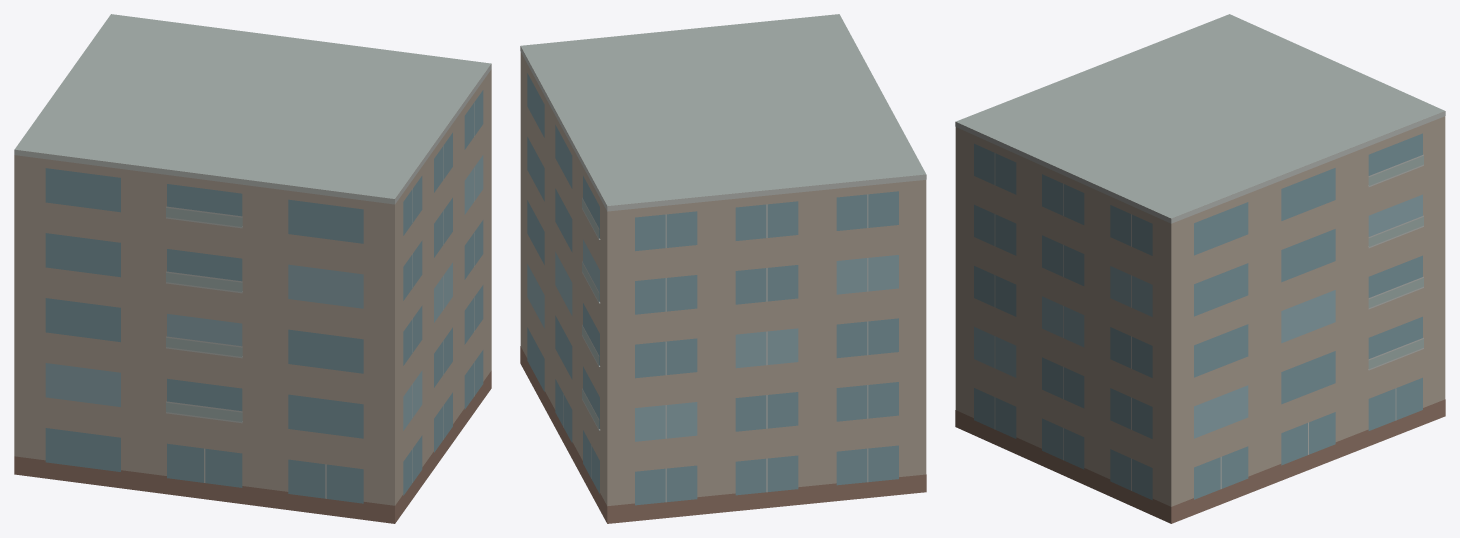
The model's file is survey-upis-32581833.glb.
The picture shows the model from 3 angles, left to right: view 1: azimuth 30°, elevation 25°; view 2: azimuth 150°, elevation 25°; view 3: azimuth 270°, elevation 25°; orthographic projection. The views are drawn at different scales.
Parts seen in each view (by area): view 1: survey-upis-32581833.tmp; view 2: survey-upis-32581833.tmp; view 3: survey-upis-32581833.tmp.
Boxes of the visible parts, x1=… form: survey-upis-32581833.tmp: x1=14, y1=14, x2=491, y2=523; survey-upis-32581833.tmp: x1=520, y1=14, x2=926, y2=523; survey-upis-32581833.tmp: x1=955, y1=14, x2=1445, y2=523.
Bounding box in the file's own units: 20.85 × 14.5 × 21.1.
